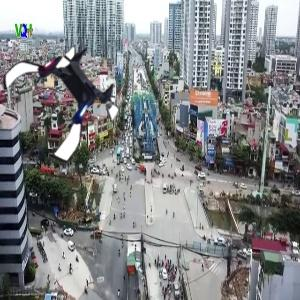drone: (1, 36, 122, 157)
